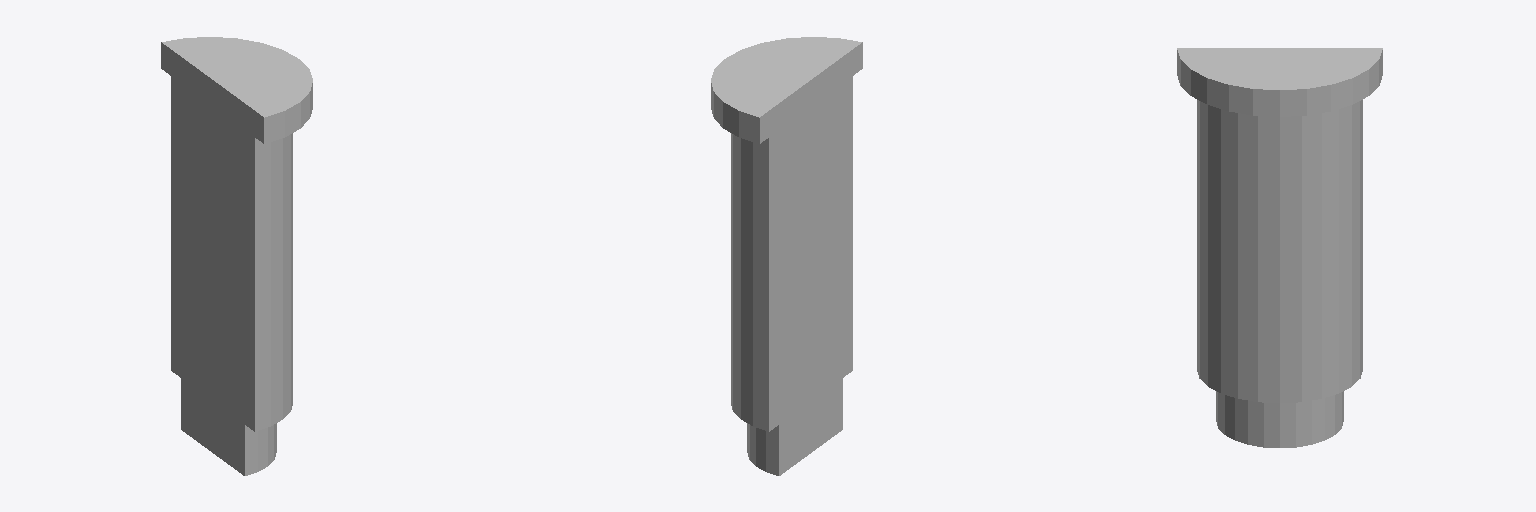
Rendered from kitchenBarEnd.obj.
The picture shows the model from 3 angles: view 1: azimuth 30°, elevation 25°; view 2: azimuth 150°, elevation 25°; view 3: azimuth 270°, elevation 25°; orthographic projection.
Visible parts, largest first — view 1: kitchenBarEnd; view 2: kitchenBarEnd; view 3: kitchenBarEnd.
Boxes of the visible parts, x1,y1,x2,y2 form: kitchenBarEnd: [161, 37, 312, 475]; kitchenBarEnd: [711, 37, 862, 475]; kitchenBarEnd: [1177, 48, 1382, 447].
Bounding box in the file's own units: 0.1016 × 0.42 × 0.21.